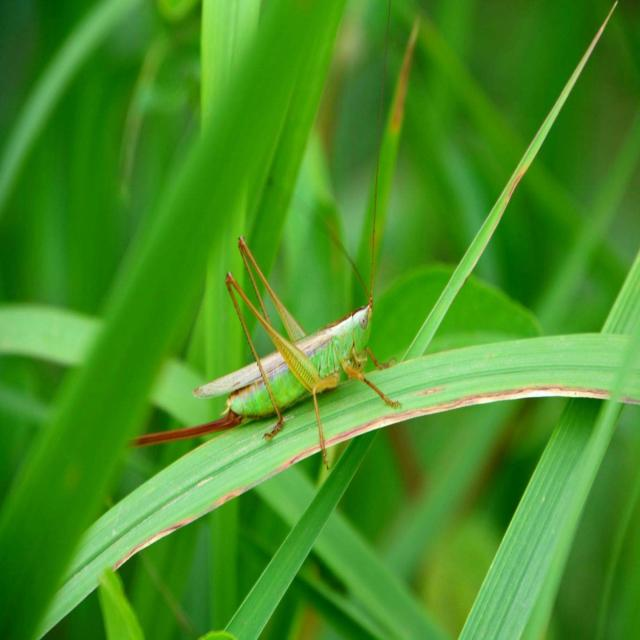ZhaMeng: (110, 228, 389, 460)
